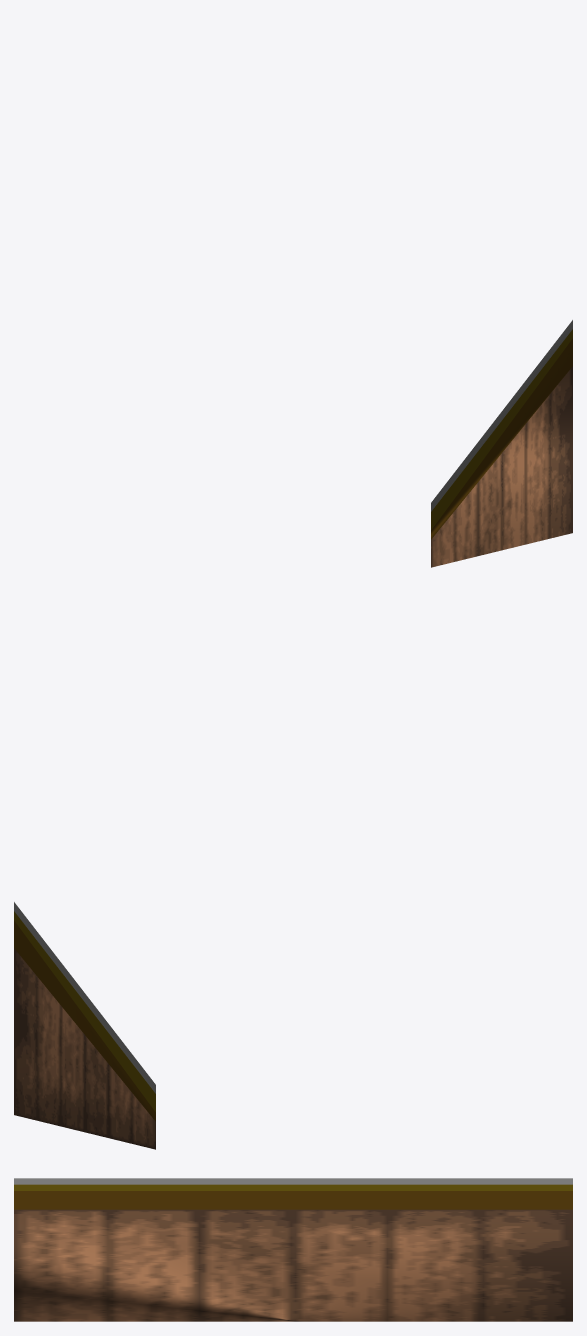
3 renders of one model, top to bottom at view 1: azimuth 30°, elevation 25°; view 2: azimuth 150°, elevation 25°; view 3: azimuth 270°, elevation 25°, orthographic. The views are drawn at different scales.
Visible parts, largest first — view 1: /Engine/Transient.StaticMesh_1987; view 2: /Engine/Transient.StaticMesh_1987; view 3: /Engine/Transient.StaticMesh_1987.
Part boxes in pixels (box(x1,y1,x2,y2)): /Engine/Transient.StaticMesh_1987: box(431, 320, 572, 567); /Engine/Transient.StaticMesh_1987: box(14, 902, 155, 1149); /Engine/Transient.StaticMesh_1987: box(14, 1178, 572, 1321).
Bounding box in the file's own units: 1.28 × 1.84 × 6.52.
Materials: 5 (2 with a texture image).
